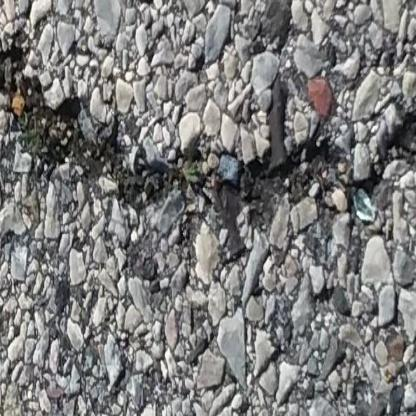Cracks: (0, 12, 416, 241)
